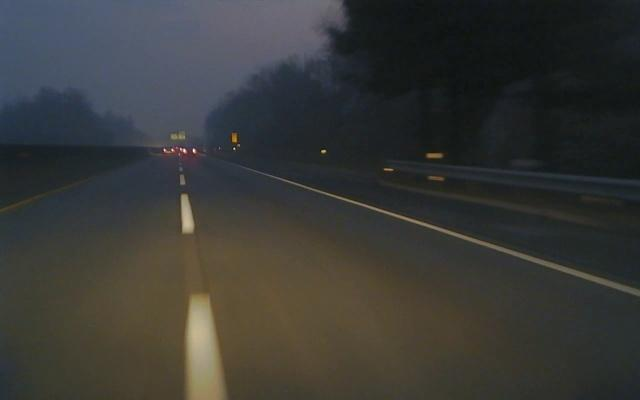lane: (243, 167, 640, 297), (180, 166, 228, 400), (0, 167, 117, 213)
